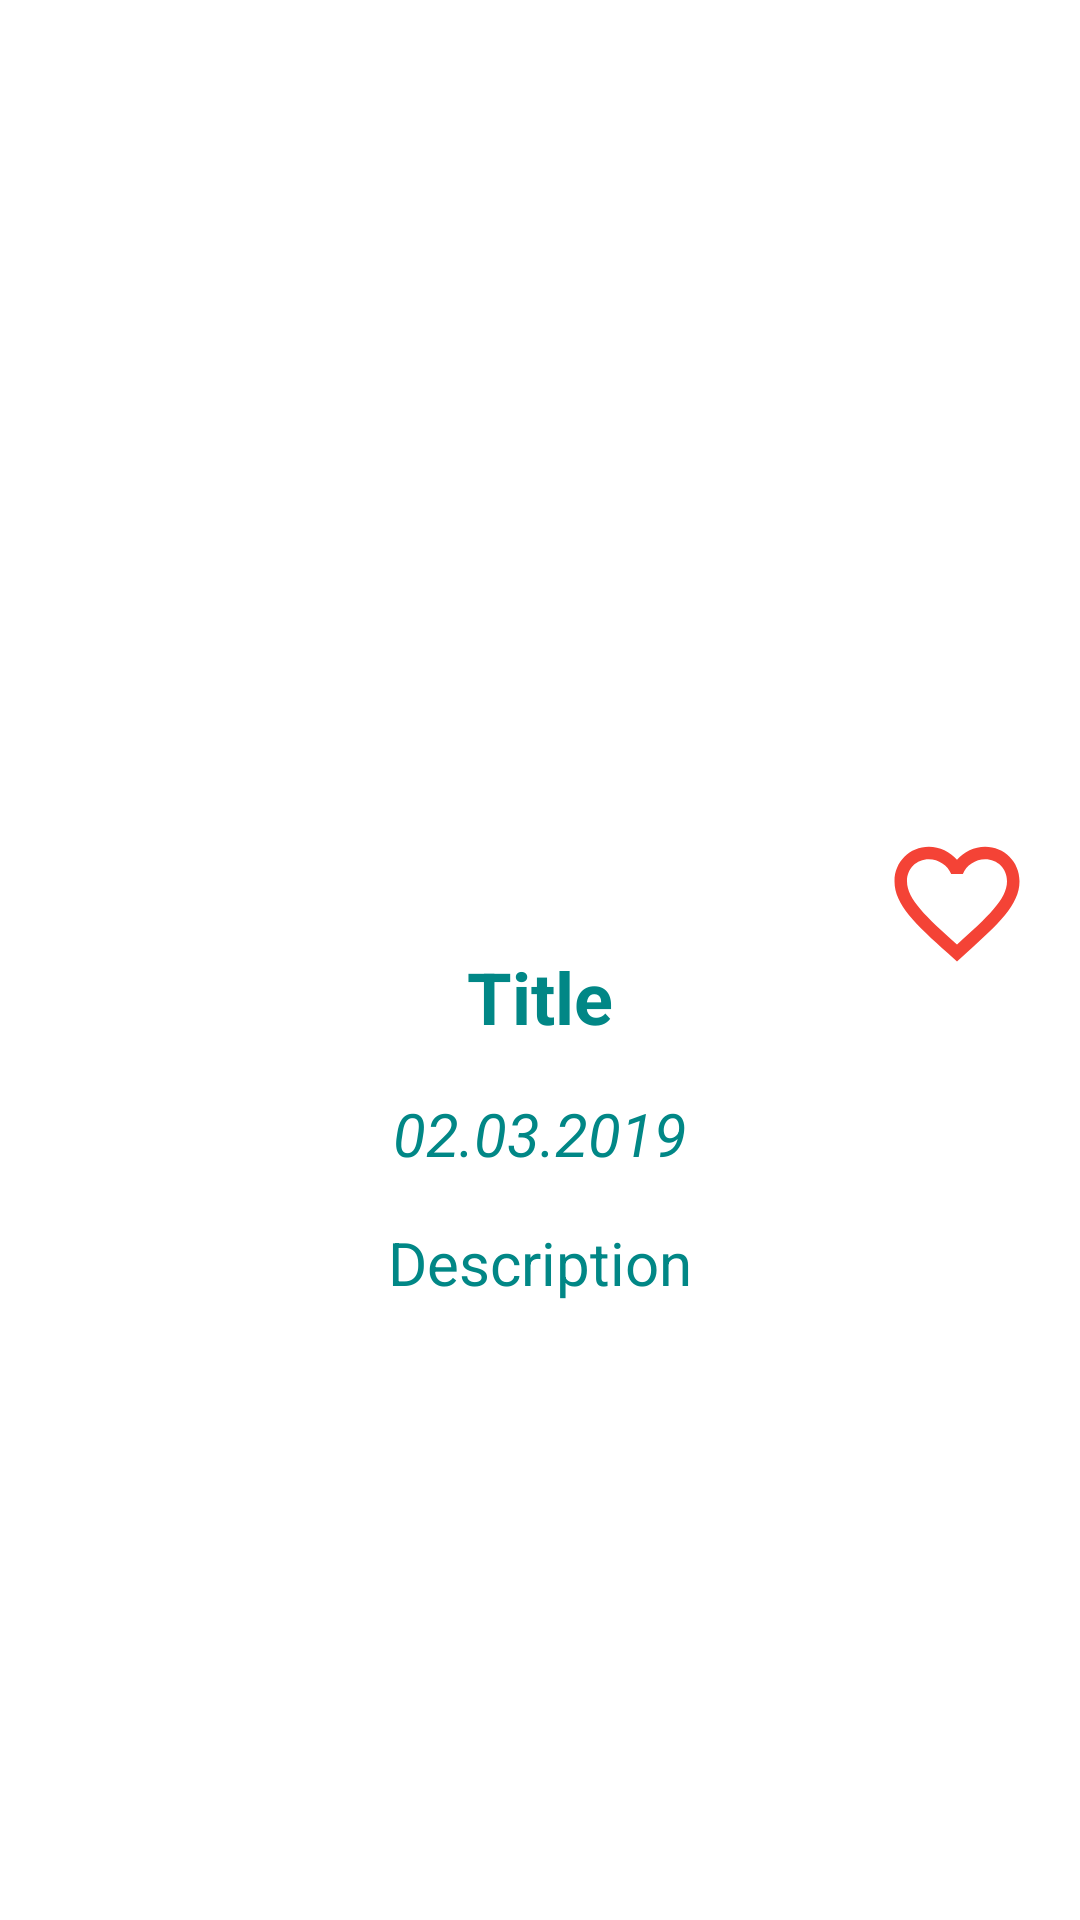

Icon bounding boxes for this 1080*1920 phone screenshot, format {"left": x1, "top": y1, "right": x2, "bottom": y2}:
favorite border: {"left": 894, "top": 846, "right": 1020, "bottom": 962}
